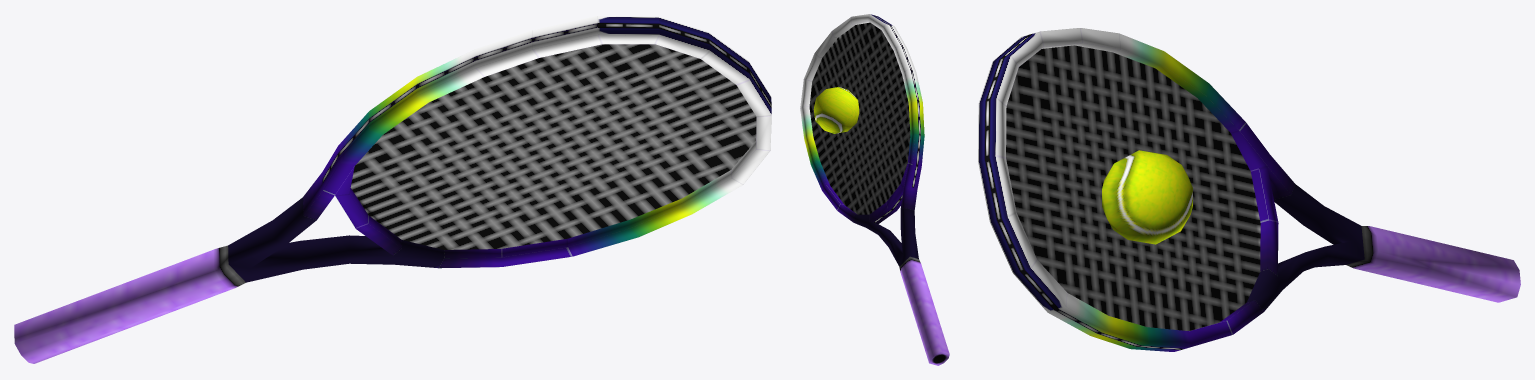
The model's file is i0.ico.obj.
3 renders of one model, left to right at view 1: azimuth 30°, elevation 25°; view 2: azimuth 150°, elevation 25°; view 3: azimuth 270°, elevation 25°, orthographic. The views are drawn at different scales.
Size of the model in its own units: 3.46 by 2.75 by 3.11.
Materials: 1 (1 with a texture image).
